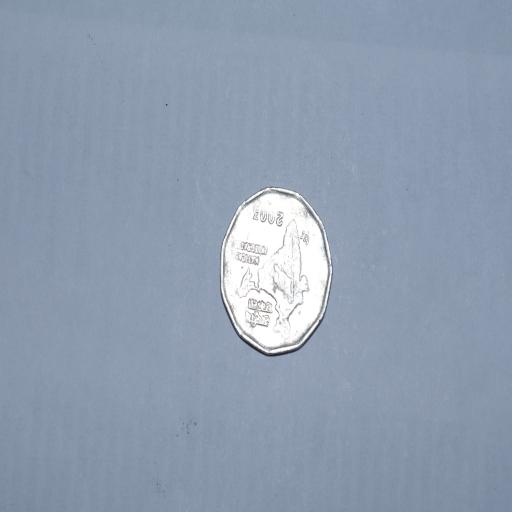rupee2: (213, 183, 333, 360)
